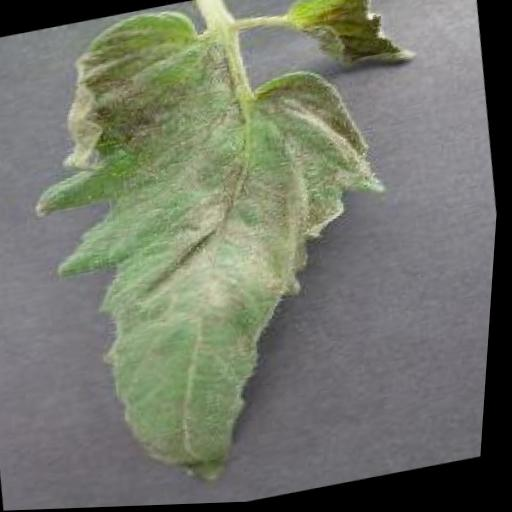Late Blight: (0, 0, 430, 512), (278, 0, 419, 95)
